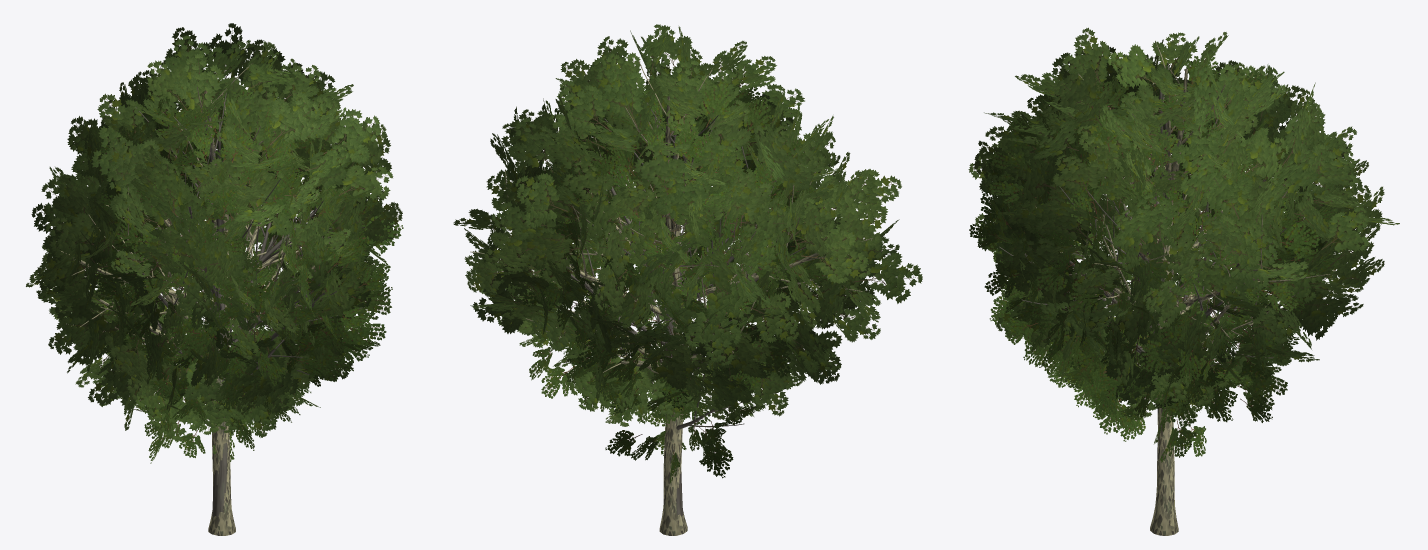
The model's file is trees.glb.
The picture shows the model from 3 angles, left to right: view 1: azimuth 30°, elevation 25°; view 2: azimuth 150°, elevation 25°; view 3: azimuth 270°, elevation 25°; orthographic projection. The views are drawn at different scales.
Visible parts, largest first — view 1: plane_1_lod0, plane_0_lod0, linden_0_lod0, linden_1_lod0, linden_2_lod0; view 2: plane_1_lod0, plane_0_lod0, linden_0_lod0, linden_1_lod0, linden_2_lod0; view 3: plane_0_lod0, plane_1_lod0, linden_1_lod0, linden_0_lod0, linden_2_lod0.
Boxes of the visible parts, x1=… form: plane_1_lod0: x1=26, y1=40, x2=402, y2=534; plane_0_lod0: x1=31, y1=23, x2=383, y2=535; linden_0_lod0: x1=84, y1=73, x2=403, y2=516; linden_1_lod0: x1=92, y1=105, x2=391, y2=516; linden_2_lod0: x1=104, y1=224, x2=309, y2=463; plane_1_lod0: x1=486, y1=24, x2=877, y2=535; plane_0_lod0: x1=453, y1=81, x2=922, y2=535; linden_0_lod0: x1=522, y1=57, x2=814, y2=512; linden_1_lod0: x1=511, y1=83, x2=829, y2=516; linden_2_lod0: x1=562, y1=233, x2=777, y2=483; plane_0_lod0: x1=968, y1=46, x2=1399, y2=535; plane_1_lod0: x1=978, y1=27, x2=1356, y2=535; linden_1_lod0: x1=989, y1=75, x2=1327, y2=434; linden_0_lod0: x1=969, y1=54, x2=1349, y2=480; linden_2_lod0: x1=1055, y1=209, x2=1293, y2=462.
Size of what is drawn, in the model's own units: 8.25 by 10.37 by 8.36.
3 materials, 3 textured.
